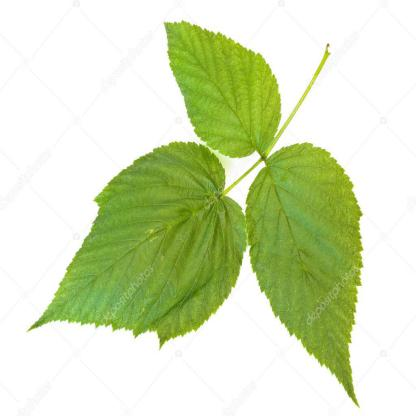raspberry leaf: (24, 142, 249, 349), (246, 144, 363, 410), (163, 20, 284, 161)
